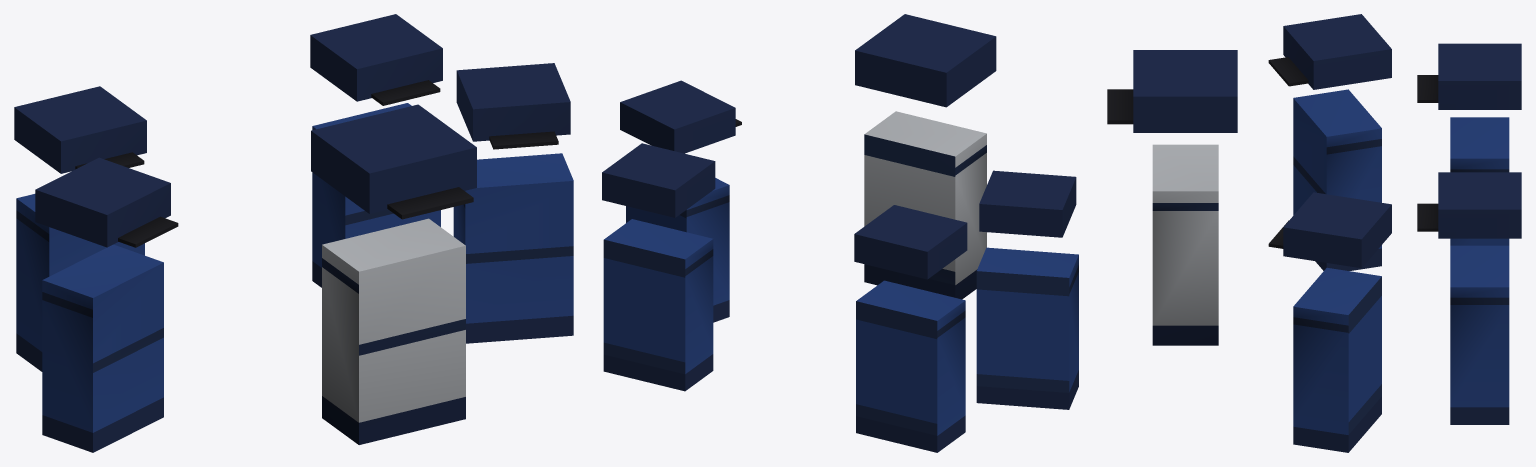
The model's file is bubble-patrol-lod3.glb.
3 renders of one model, left to right at view 1: azimuth 30°, elevation 25°; view 2: azimuth 150°, elevation 25°; view 3: azimuth 270°, elevation 25°, orthographic. The views are drawn at different scales.
Visible parts, largest first — view 1: cap_torso, att3_torso, att2_torso, cap_hat, att3_hat, att0_hat, att1_hat, att2_hat, att1_torso, att0_torso; view 2: att0_torso, att1_torso, att3_torso, cap_torso, cap_hat, att0_hat, att1_hat, att2_hat, att3_hat, att2_torso; view 3: att2_torso, cap_torso, att0_torso, cap_hat, att3_torso, att3_hat, att2_hat, att0_hat, att1_hat, att1_torso.
Boxes of the visible parts, x1=… form: cap_torso: x1=322, y1=218, x2=465, y2=444; att3_torso: x1=42, y1=244, x2=163, y2=452; att2_torso: x1=453, y1=153, x2=573, y2=343; cap_hat: x1=311, y1=104, x2=476, y2=219; att3_hat: x1=35, y1=157, x2=178, y2=247; att0_hat: x1=310, y1=14, x2=442, y2=105; att1_hat: x1=14, y1=86, x2=146, y2=173; att2_hat: x1=456, y1=63, x2=570, y2=149; att1_torso: x1=16, y1=194, x2=144, y2=371; att0_torso: x1=312, y1=103, x2=440, y2=287; att0_torso: x1=603, y1=219, x2=713, y2=391; att1_torso: x1=856, y1=280, x2=965, y2=452; att3_torso: x1=976, y1=247, x2=1078, y2=409; cap_torso: x1=864, y1=111, x2=986, y2=299; cap_hat: x1=855, y1=14, x2=996, y2=107; att0_hat: x1=602, y1=143, x2=715, y2=217; att1_hat: x1=854, y1=205, x2=967, y2=279; att2_hat: x1=620, y1=80, x2=741, y2=153; att3_hat: x1=979, y1=170, x2=1076, y2=237; att2_torso: x1=626, y1=178, x2=729, y2=322; att2_torso: x1=1293, y1=267, x2=1381, y2=452; cap_torso: x1=1152, y1=144, x2=1218, y2=345; att0_torso: x1=1450, y1=245, x2=1509, y2=424; cap_hat: x1=1107, y1=50, x2=1237, y2=132; att3_torso: x1=1293, y1=89, x2=1381, y2=270; att3_hat: x1=1268, y1=14, x2=1391, y2=89; att2_hat: x1=1268, y1=192, x2=1391, y2=268; att0_hat: x1=1417, y1=172, x2=1521, y2=238; att1_hat: x1=1417, y1=43, x2=1521, y2=109; att1_torso: x1=1450, y1=117, x2=1509, y2=245.
Bounding box in the file's own units: 2.18 × 1.2 × 1.69.
